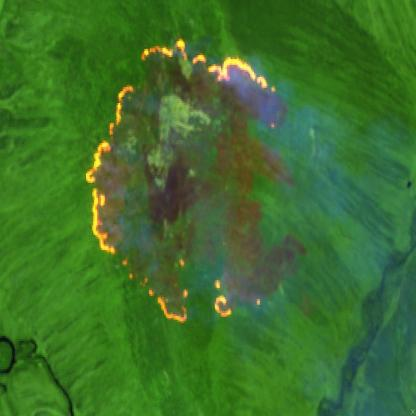fire: (83, 33, 286, 326)
